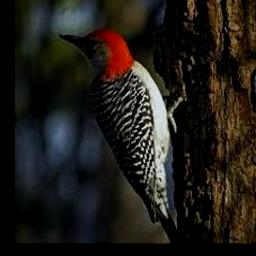Woodpecker: (59, 28, 182, 244)
